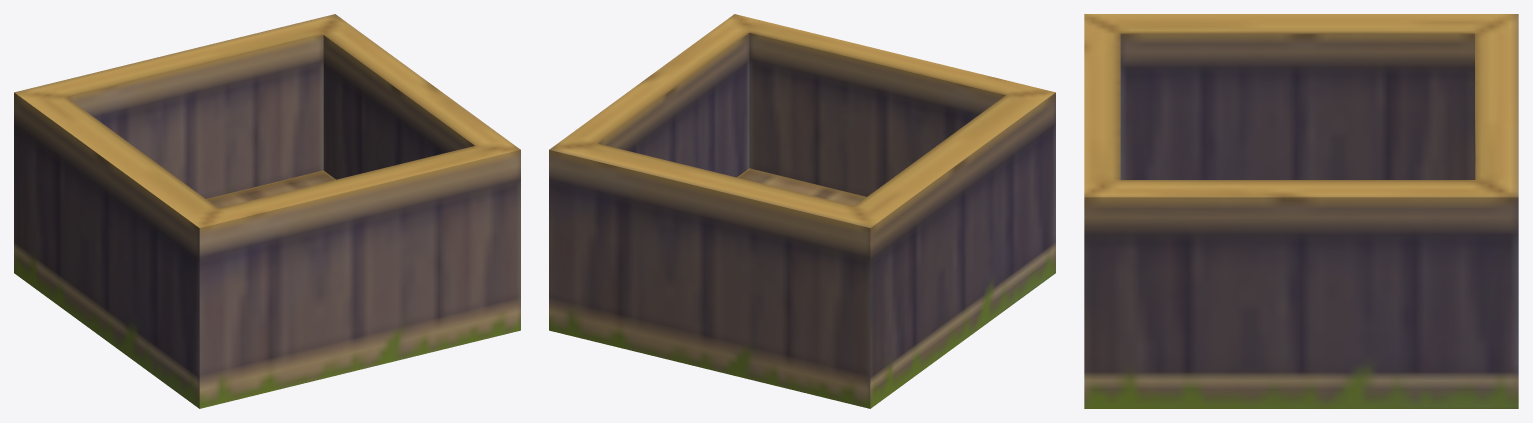
Rendered from scenes_construction_box01a.FBX.
3 renders of one model, left to right at view 1: azimuth 30°, elevation 25°; view 2: azimuth 150°, elevation 25°; view 3: azimuth 270°, elevation 25°, orthographic. The views are drawn at different scales.
Parts seen in each view (by area): view 1: scenes_construction_box01a; view 2: scenes_construction_box01a; view 3: scenes_construction_box01a.
Boxes of the visible parts, x1,y1,x2,y2 form: scenes_construction_box01a: (14,14,520,408); scenes_construction_box01a: (549,14,1055,408); scenes_construction_box01a: (1084,14,1518,408).
Size of the model in its own units: 250 by 134 by 250.
